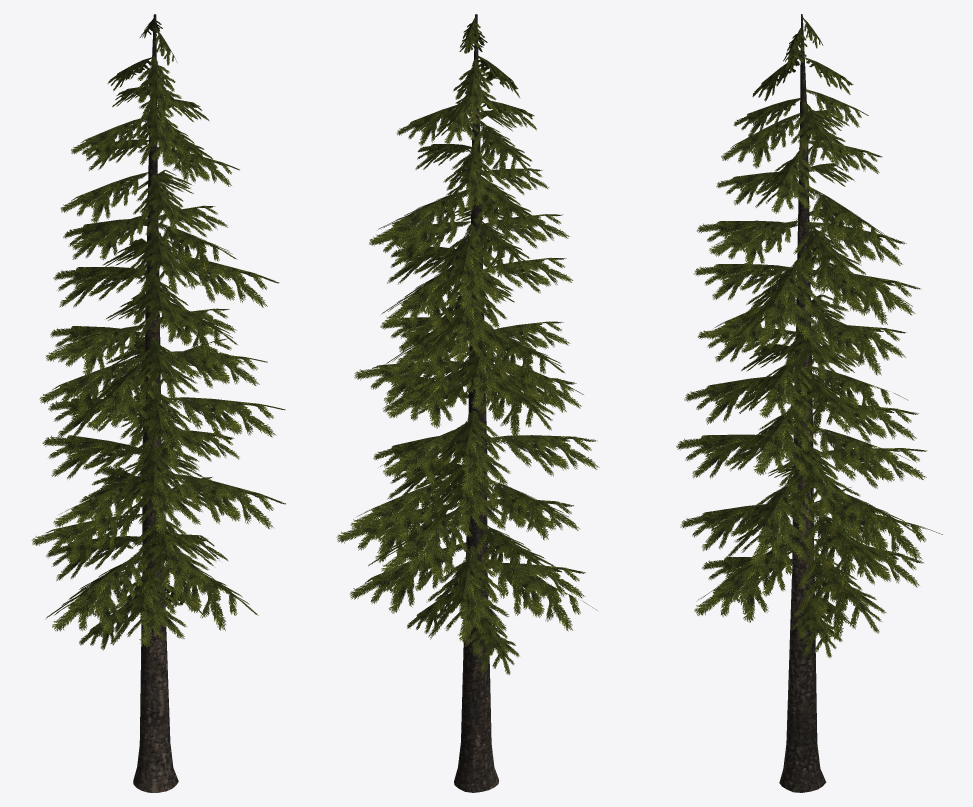
The model's file is pine_tree_n_2_1.glb.
The picture shows the model from 3 angles, left to right: view 1: azimuth 30°, elevation 25°; view 2: azimuth 150°, elevation 25°; view 3: azimuth 270°, elevation 25°; orthographic projection.
Visible parts, largest first — view 1: pine_tree_n_2_1_branches, pine_tree_n_2_1; view 2: pine_tree_n_2_1_branches, pine_tree_n_2_1; view 3: pine_tree_n_2_1_branches, pine_tree_n_2_1.
Boxes of the visible parts, x1=… form: pine_tree_n_2_1_branches: x1=31, y1=18, x2=285, y2=650; pine_tree_n_2_1: x1=133, y1=14, x2=178, y2=792; pine_tree_n_2_1_branches: x1=336, y1=17, x2=599, y2=675; pine_tree_n_2_1: x1=454, y1=14, x2=498, y2=792; pine_tree_n_2_1_branches: x1=676, y1=17, x2=942, y2=657; pine_tree_n_2_1: x1=779, y1=14, x2=826, y2=792.
Size of the model in its own units: 3.08 by 9.1 by 3.29.
Materials: 2 (2 with a texture image).
